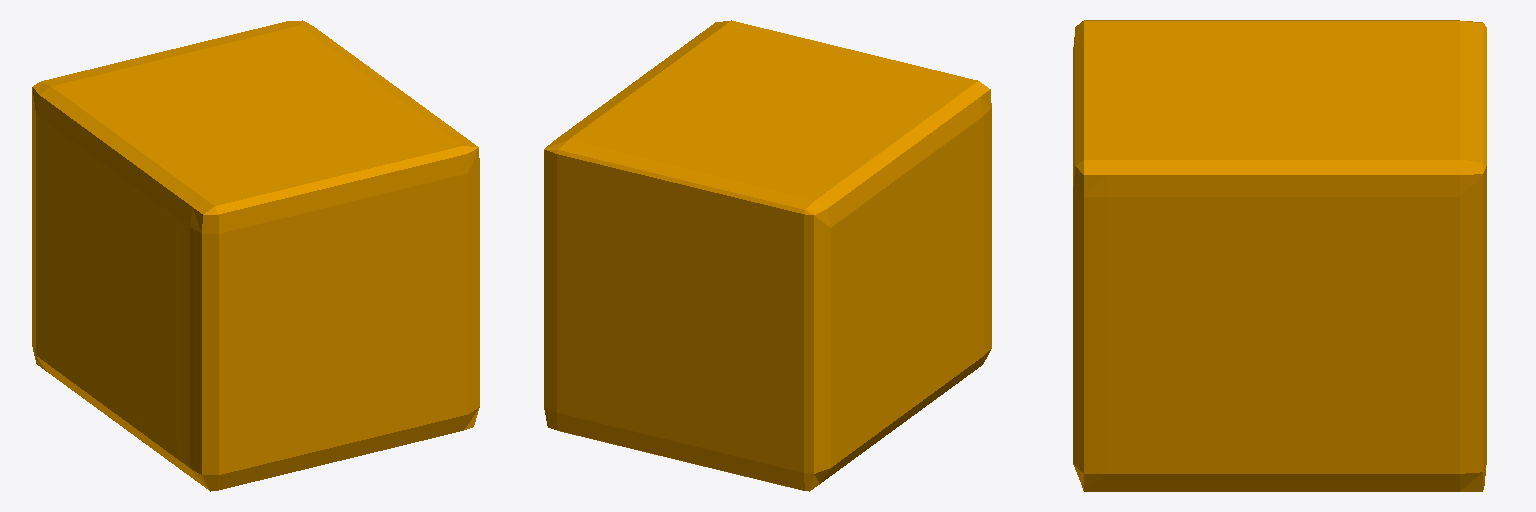
The robot description file, URDF, robot "cylinder_box_192":
<?xml version="1.0" encoding="utf-8"?>  <robot name="cylinder_box_192">   <link name="cylinder_box_192">     <visual>       <geometry>         <mesh filename="../meshes/box/box_192.stl" scale="1 1 1"/>       </geometry>     </visual>     <collision>       <geometry>         <mesh filename="../meshes/box/box_192.stl" scale="1 1 1"/>       </geometry>     </collision>     <inertial>        <origin         xyz="0 0 0"         rpy="0 0 0" />       <mass value="0.5290012369549105"/>       <origin rpy="0 0 0" xyz="0 0 0"/>       <inertia ixx="0.000595039853700087" ixy="-2.5738813903167086e-07" ixz="1.7304421512330352e-07" iyy="0.0005292905431701968" iyz="3.5171521518886387e-07" izz="0.0006096124445619864"/>     </inertial>   </link>  </robot>

--- Facts derived from the render (not from the file) ---
3 views of the same robot in one strip: view 1: azimuth 30°, elevation 25°; view 2: azimuth 150°, elevation 25°; view 3: azimuth 270°, elevation 25° (orthographic).
Model cylinder_box_192 with 1 links and 0 joints (none), rooted at cylinder_box_192, posed all joints at 0.
Links seen in each view (by area): view 1: cylinder_box_192; view 2: cylinder_box_192; view 3: cylinder_box_192.
Link boxes in pixels (x1,y1,x2,y2): cylinder_box_192: [32, 20, 479, 491]; cylinder_box_192: [544, 20, 991, 491]; cylinder_box_192: [1073, 20, 1486, 491].
Bounding box of the posed robot: 0.0791 × 0.0879 × 0.0768 m (x, y, z).
Meshes: 1 distinct files referenced, 1 mesh visuals loaded (1 binary STL).